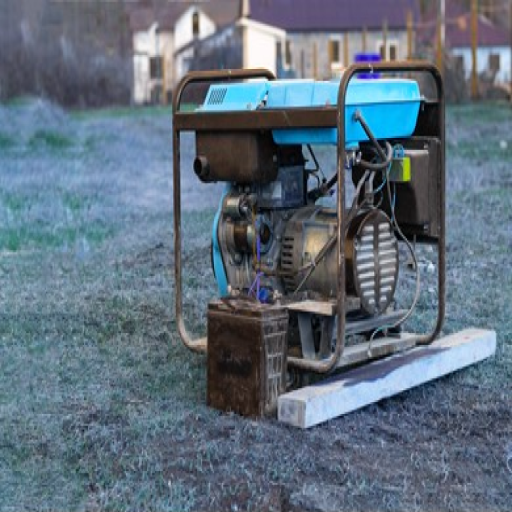portable_generator: (172, 67, 447, 359)
